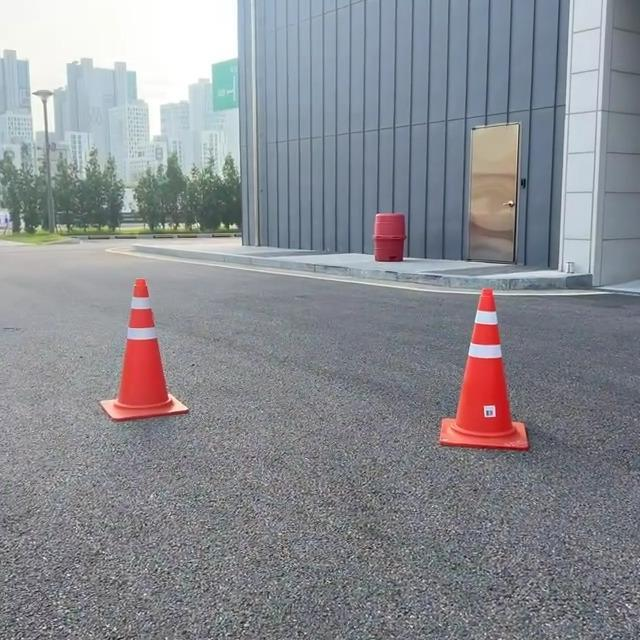fallen_object: (412, 275, 546, 474), (72, 250, 198, 442)
